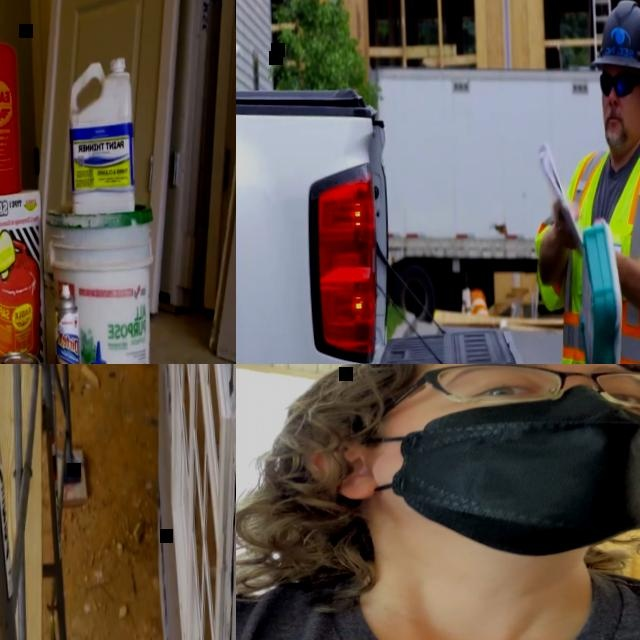Hardhat: (589, 0, 640, 79)
Mask: (359, 380, 640, 563)
NO-Hardhat: (329, 364, 640, 387)
NO-Mask: (600, 107, 640, 150)
NO-Safety Vest: (236, 564, 640, 640)
Person: (236, 364, 640, 640), (525, 0, 640, 364)
Safety Vest: (531, 138, 640, 364)
vehicle: (236, 72, 535, 364)
